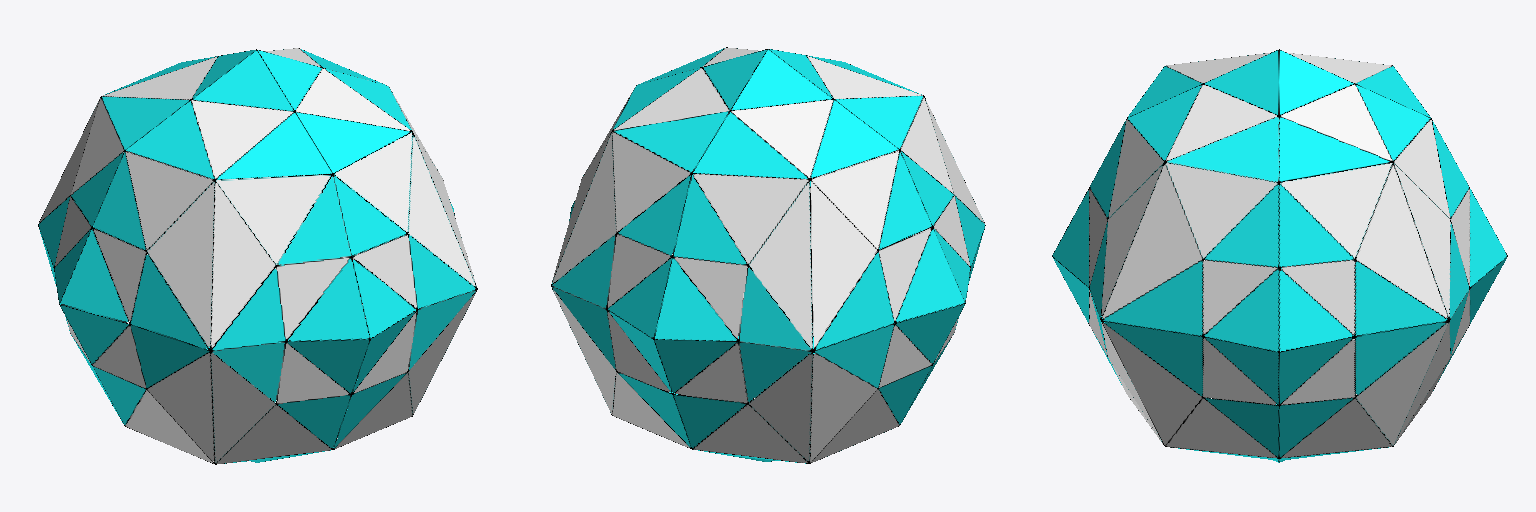
3 views of the same model, side by side, from view 1: azimuth 30°, elevation 25°; view 2: azimuth 150°, elevation 25°; view 3: azimuth 270°, elevation 25° (orthographic).
Parts seen in each view (by area): view 1: Cube; view 2: Cube; view 3: Cube.
Part boxes in pixels (left/top/right/bottom): Cube: left=38, top=48, right=477, bottom=464; Cube: left=551, top=47, right=985, bottom=463; Cube: left=1052, top=49, right=1507, bottom=462.
Bounding box in the file's own units: 2.99 × 3 × 2.99.
1 materials, 1 textured.